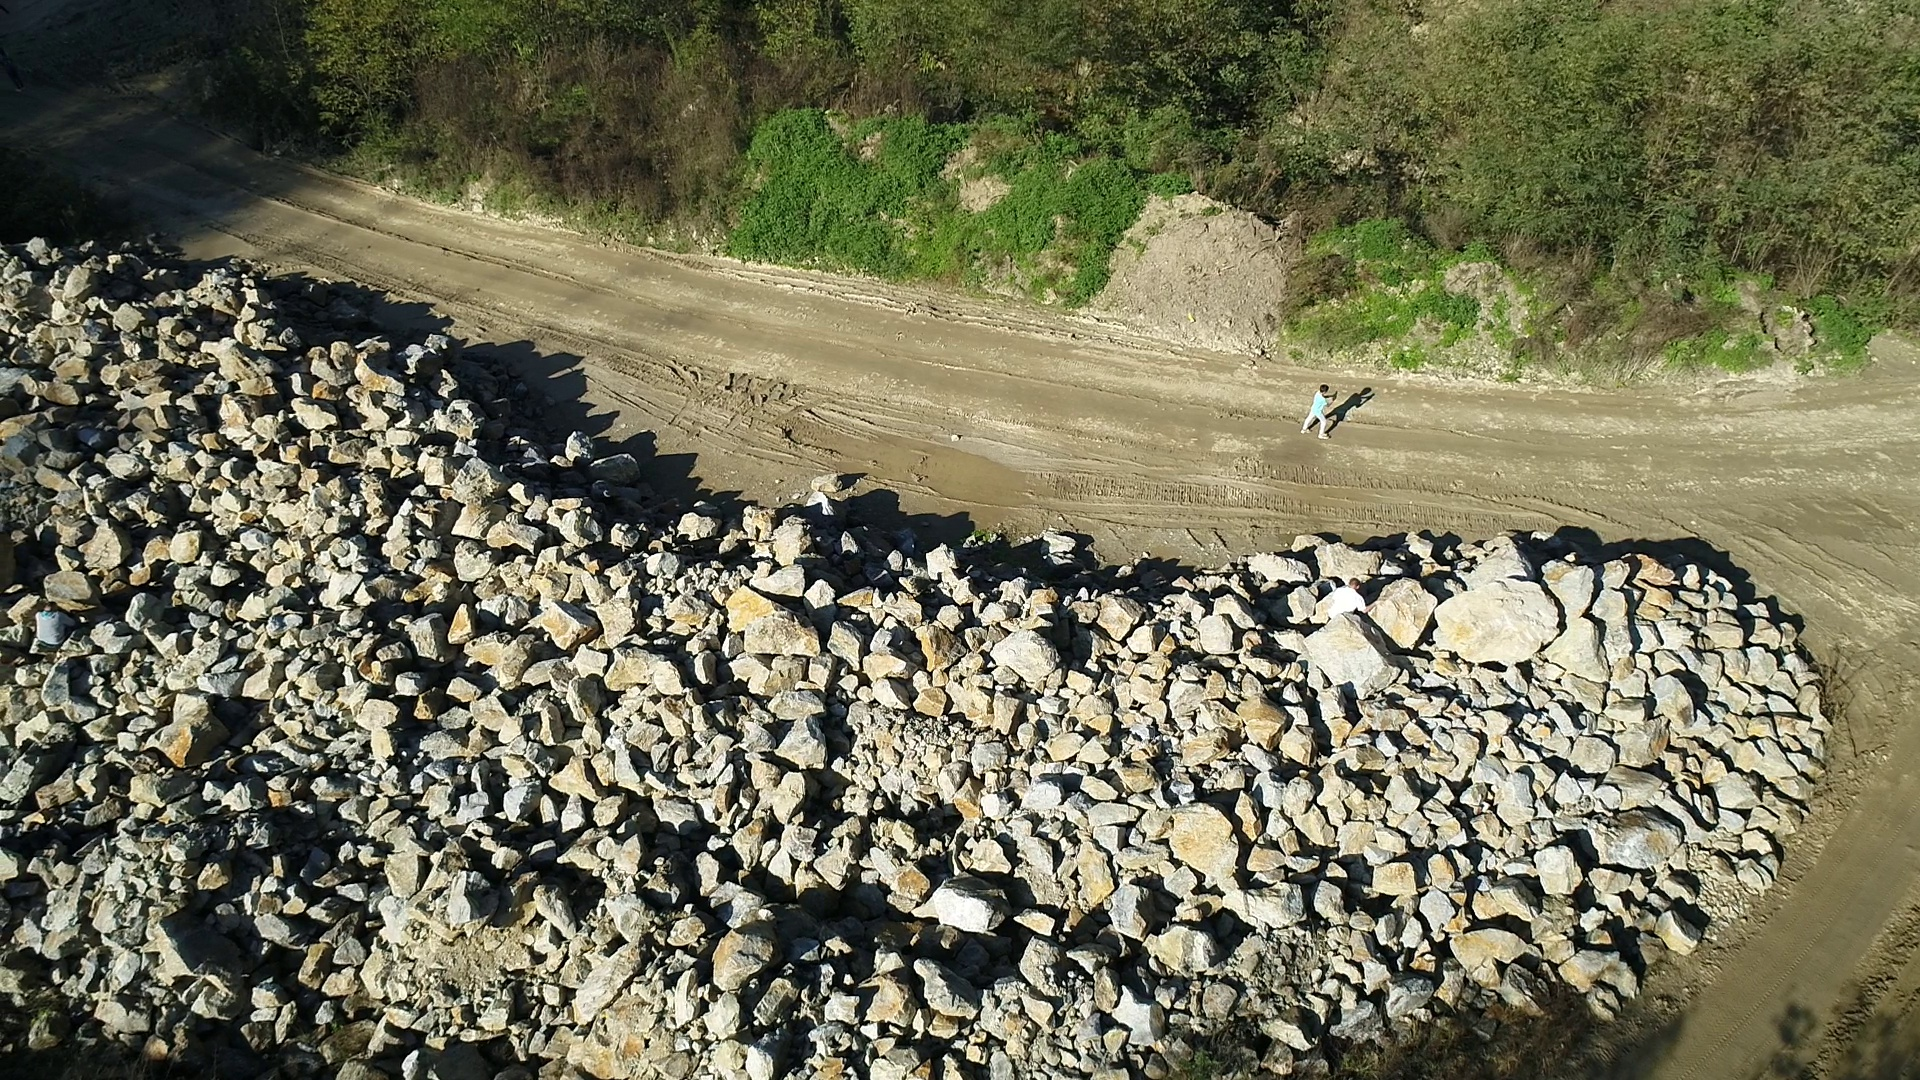not_defined: (1325, 577, 1386, 624)
person: (34, 601, 78, 650), (1301, 384, 1338, 438)
